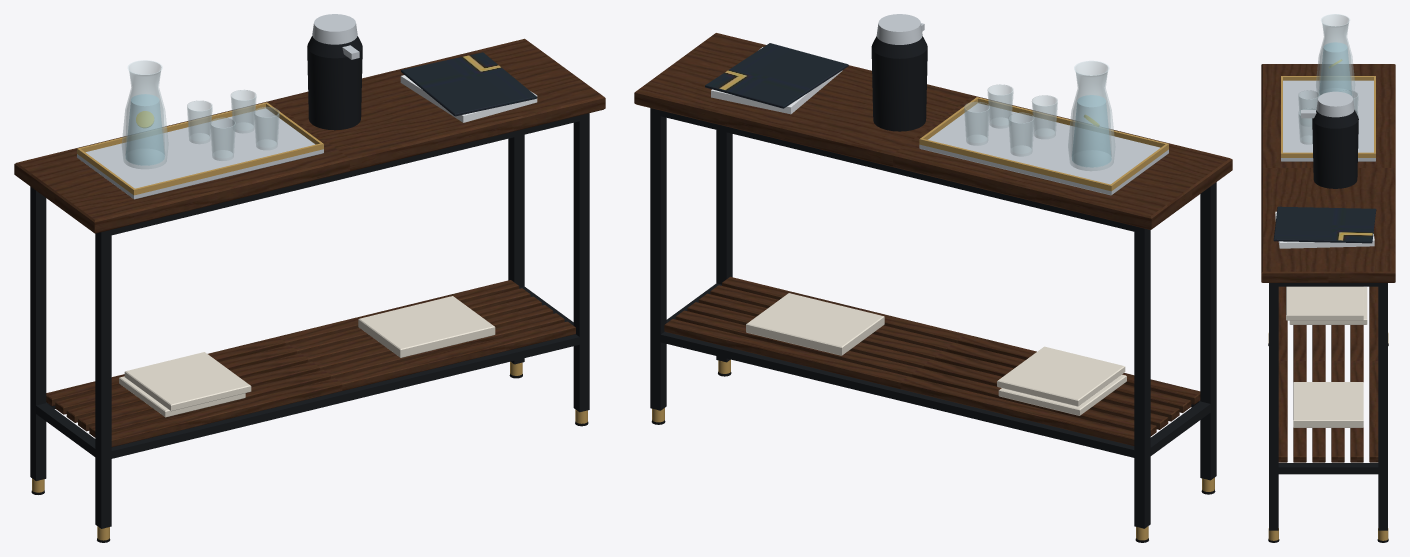
The model's file is Office_Foyer_Refreshment_Console.glb.
The picture shows the model from 3 angles, left to right: view 1: azimuth 30°, elevation 25°; view 2: azimuth 150°, elevation 25°; view 3: azimuth 270°, elevation 25°; orthographic projection. The views are drawn at different scales.
Visible parts, largest first — view 1: Merged__j1, Merged__j0, Merged__j2, Merged__j3; view 2: Merged__j1, Merged__j0, Merged__j2, Merged__j3; view 3: Merged__j0, Merged__j1, Merged__j3, Merged__j2.
Boxes of the visible parts, x1,y1,x2,y2 form: Merged__j1: [30, 14, 589, 542]; Merged__j0: [14, 38, 605, 447]; Merged__j2: [122, 60, 279, 168]; Merged__j3: [401, 52, 537, 116]; Merged__j1: [650, 14, 1216, 542]; Merged__j0: [634, 33, 1232, 445]; Merged__j2: [964, 61, 1115, 170]; Merged__j3: [705, 43, 848, 108]; Merged__j0: [1261, 64, 1395, 462]; Merged__j1: [1268, 59, 1388, 542]; Merged__j3: [1273, 206, 1376, 243]; Merged__j2: [1298, 14, 1358, 144].
Size of the model in its own units: 1.4 by 1.12 by 0.38.
4 materials, 4 textured.
